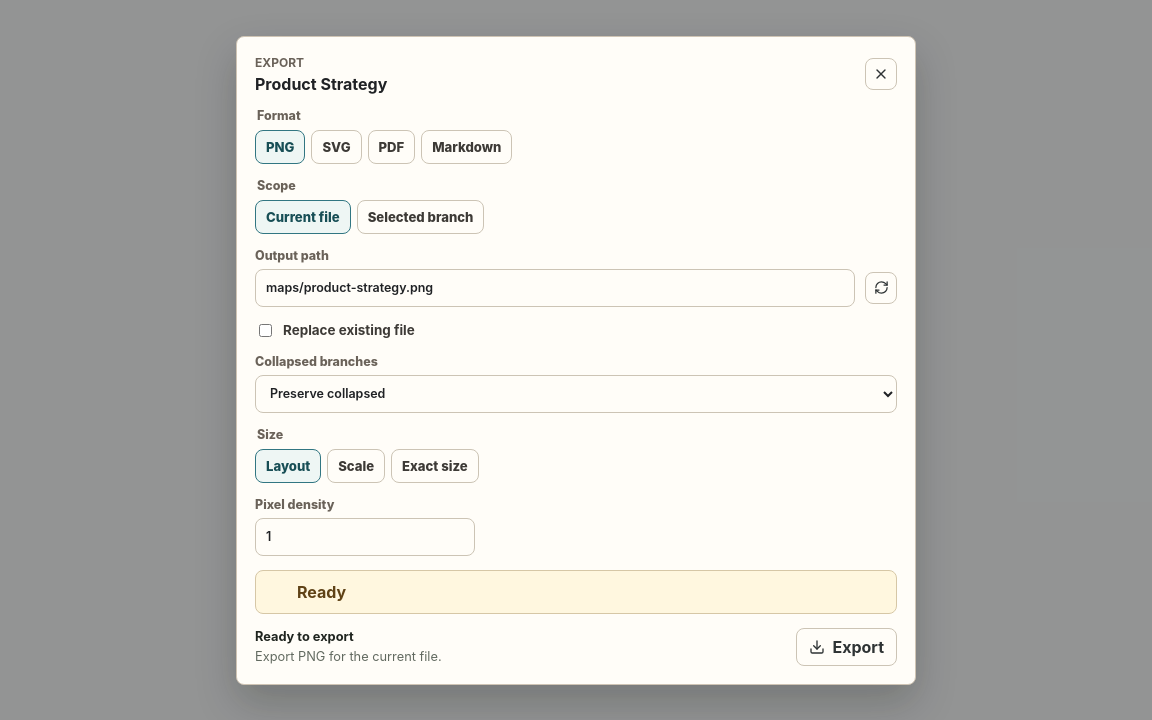
Test case: ExportDialog › submits pdf current_file exports through the Tauri command boundary
Click the radio button labelled "PDF" at (391, 146), box 368,130 -> 415,164
(page scrolled)
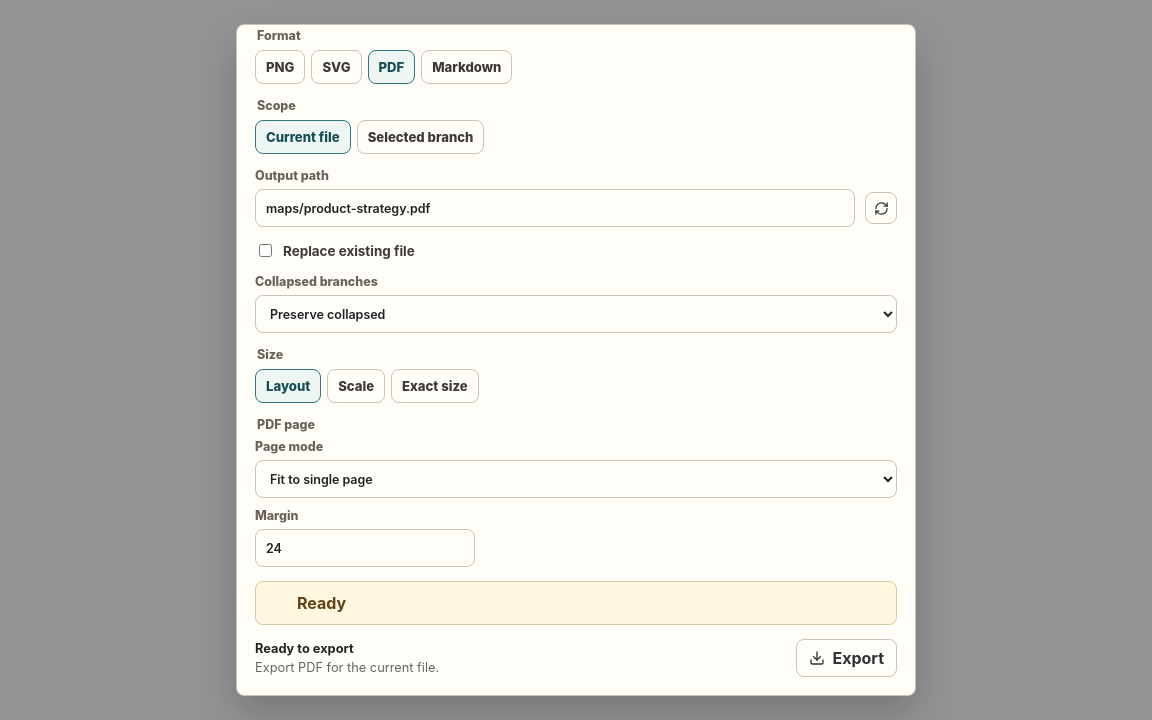
Click the button "Export" at (847, 658), box 796,639 -> 897,677
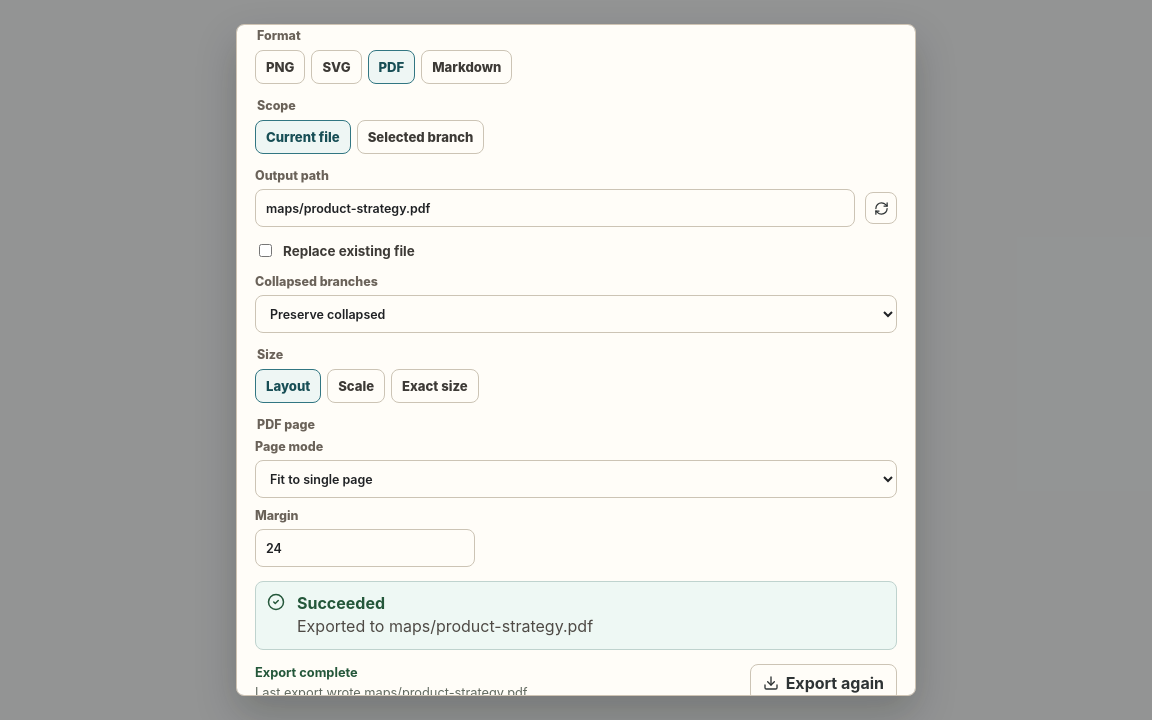
Expected: the text "Succeeded" is shown, 297,593 -> 385,613
